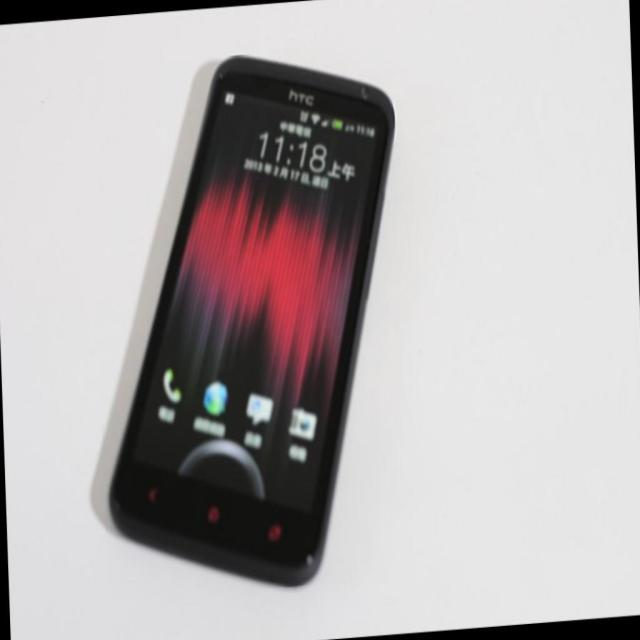handphone: (118, 49, 392, 590)
